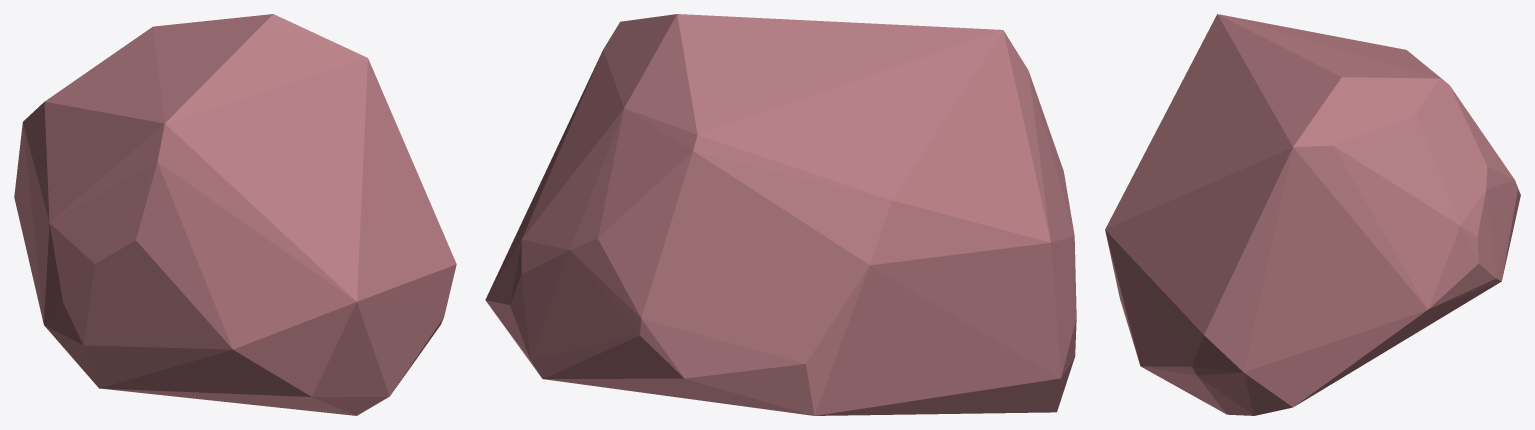
File: food_produce_pear_i01.glb
The picture shows the model from 3 angles, left to right: view 1: azimuth 30°, elevation 25°; view 2: azimuth 150°, elevation 25°; view 3: azimuth 270°, elevation 25°; orthographic projection. The views are drawn at different scales.
Visible parts, largest first — view 1: geometry_0; view 2: geometry_0; view 3: geometry_0.
Part boxes in pixels (left/top/right/bottom): geometry_0: left=14, top=14, right=456, bottom=415; geometry_0: left=485, top=14, right=1076, bottom=415; geometry_0: left=1105, top=14, right=1520, bottom=415.
Size of the model in its own units: 0.2472 by 0.2009 by 0.2511.
